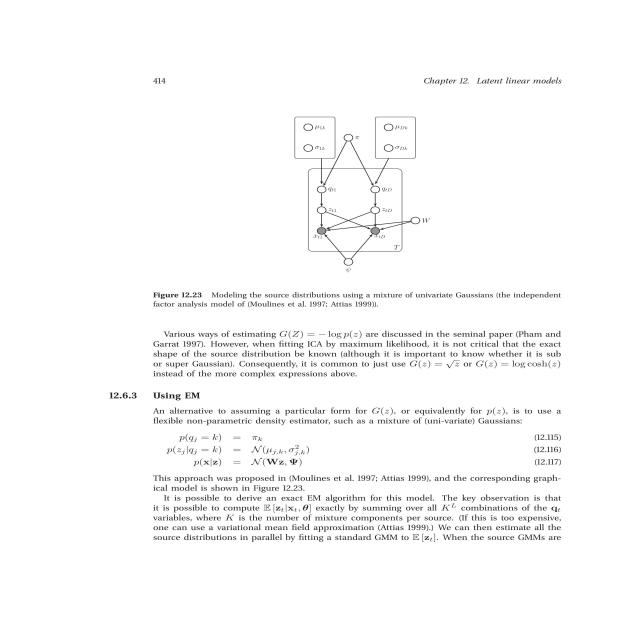diagram: (110, 99, 580, 320)
